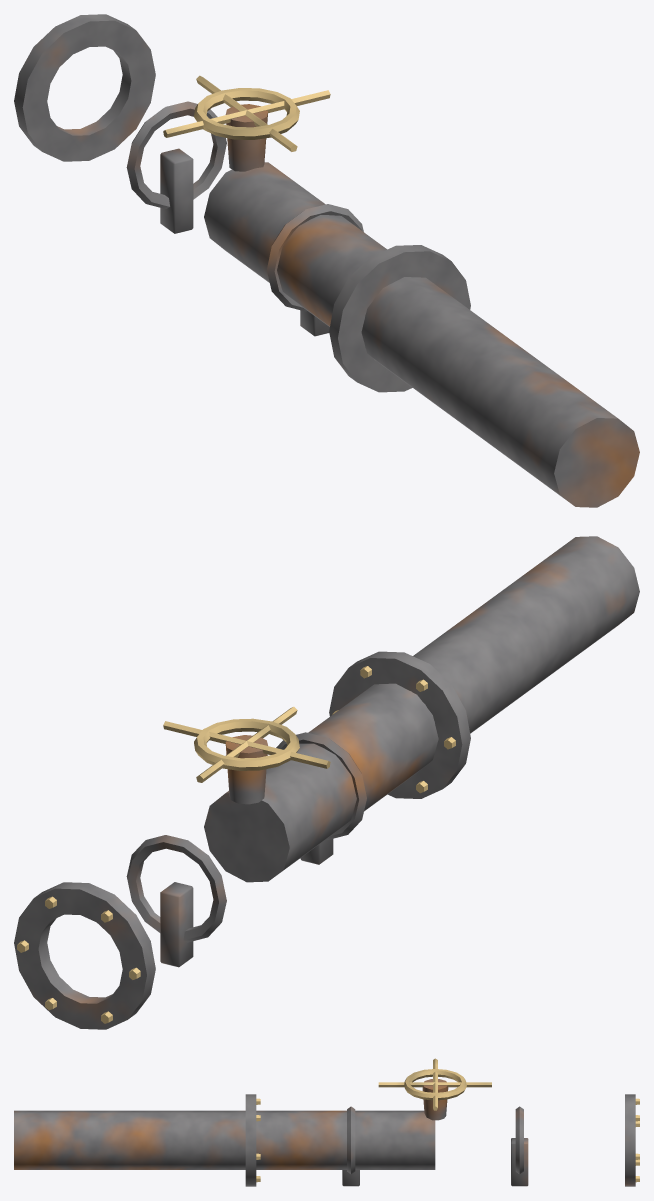
The model's file is pipe_straight.gltf.
3 renders of one model, top to bottom at view 1: azimuth 30°, elevation 25°; view 2: azimuth 150°, elevation 25°; view 3: azimuth 270°, elevation 25°, orthographic. The views are drawn at different scales.
Parts seen in each view (by area): view 1: pipe_straight; view 2: pipe_straight; view 3: pipe_straight.
Boxes of the visible parts, x1,y1,x2,y2 form: pipe_straight: (14,14,639,507); pipe_straight: (14,536,639,1029); pipe_straight: (14,1058,639,1186).
Size of the model in its own units: 0.646 by 0.6411 by 3.57.
Materials: 1 (1 with a texture image).
